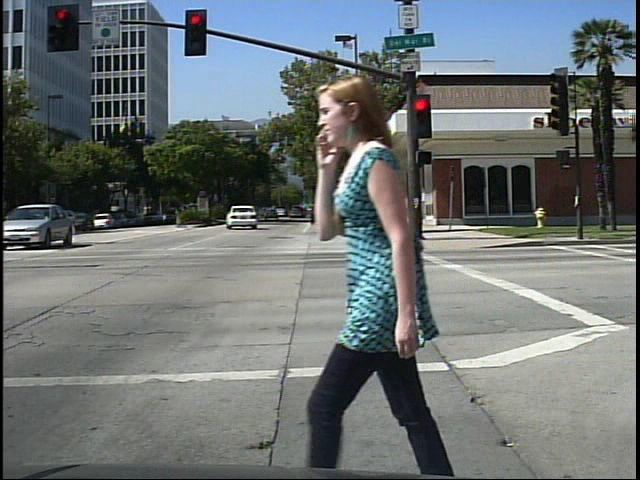person: (297, 62, 484, 480)
